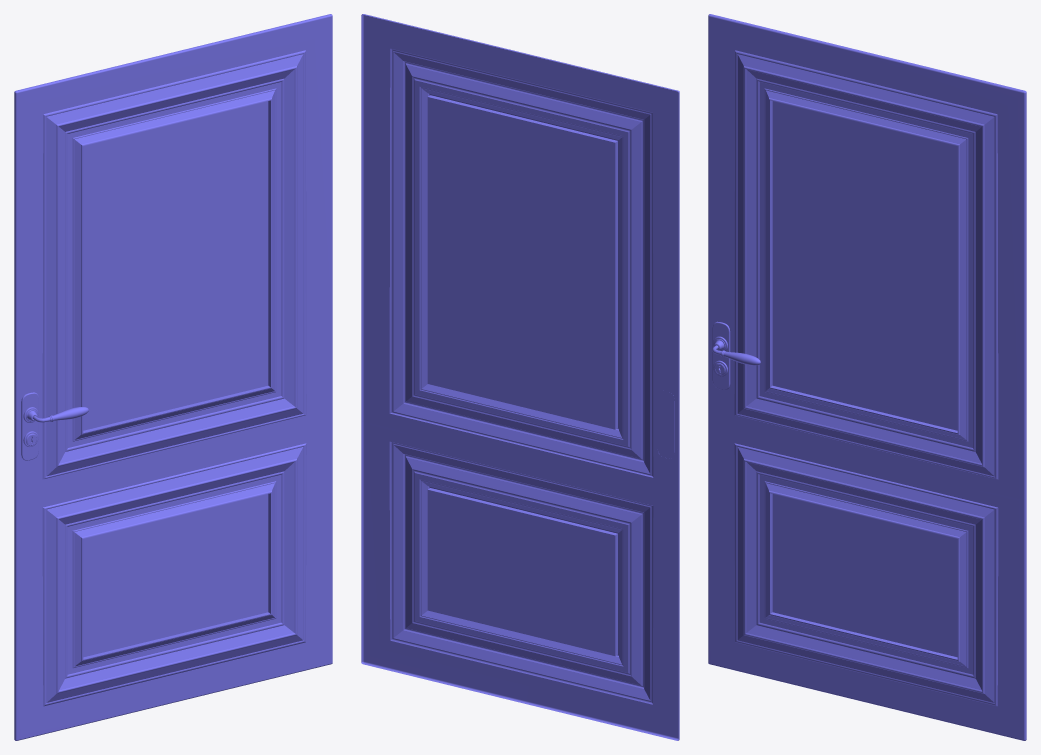
File: SM_Door_New.fbx
3 renders of one model, left to right at view 1: azimuth 30°, elevation 25°; view 2: azimuth 150°, elevation 25°; view 3: azimuth 330°, elevation 25°, orthographic.
Parts seen in each view (by area): view 1: Door; view 2: Door; view 3: Door.
Part boxes in pixels (box(x1,y1,x2,y2)): Door: box(14, 14, 332, 740); Door: box(361, 14, 679, 740); Door: box(708, 14, 1026, 740).
Size of the model in its own units: 110 by 215 by 8.45.
